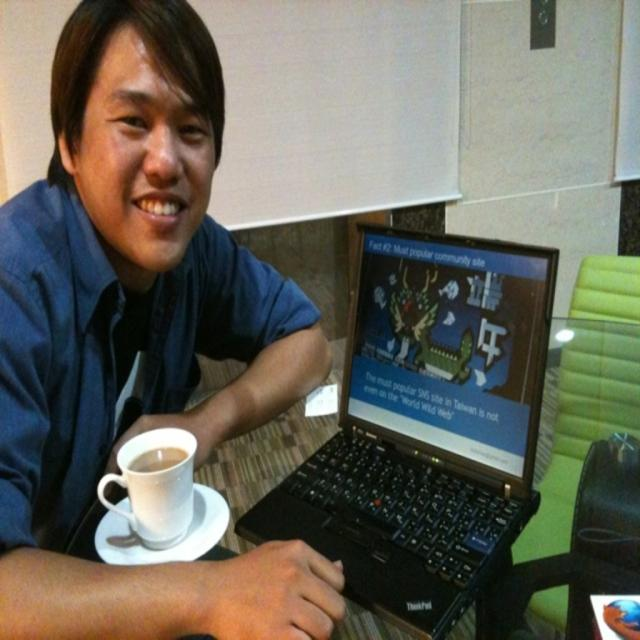no_helmet: (32, 83, 244, 299)
